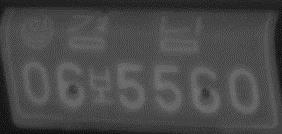0: (227, 66, 262, 114), (20, 59, 53, 107)
5: (114, 59, 146, 112), (151, 61, 183, 114)
6: (54, 60, 88, 109), (188, 64, 219, 114)
경남_D: (64, 11, 208, 56)
보: (84, 64, 117, 106)
영: (18, 10, 57, 51)
